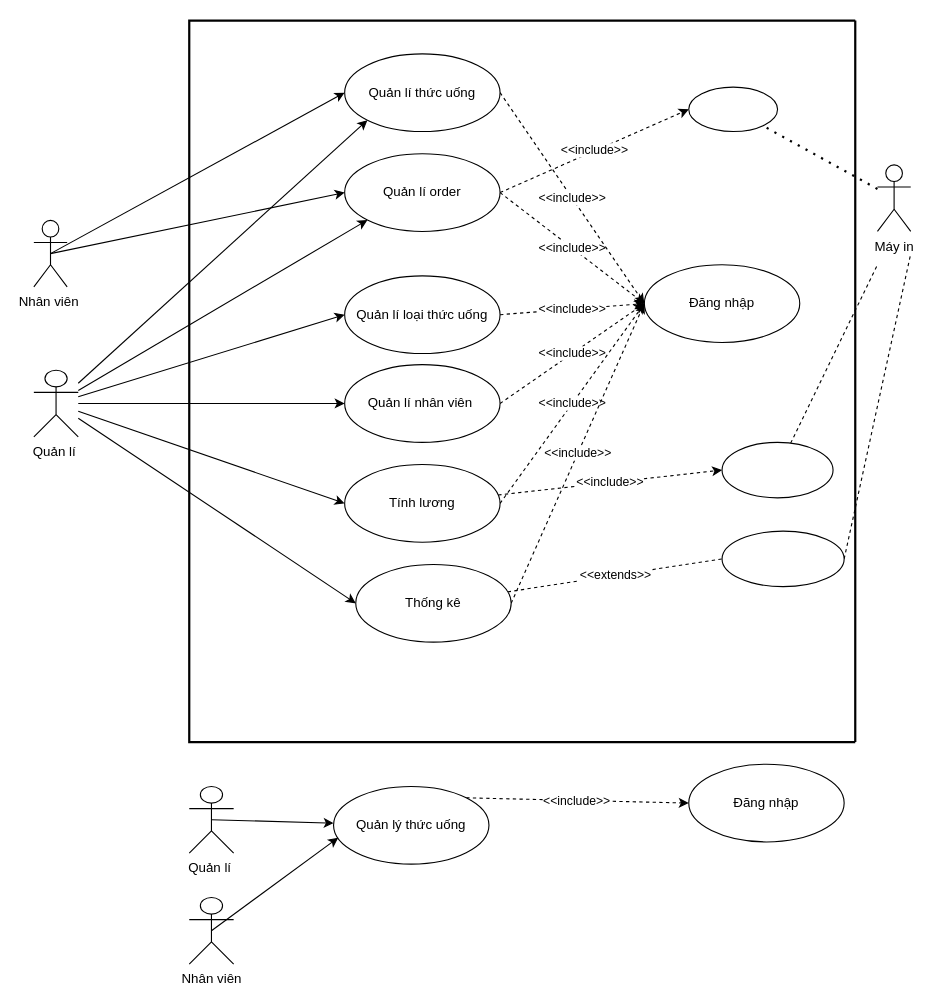
This 932x1006 diagram has some shape labels left out. The shapes that lost their labels are listed below. From the top down, each one's centre as x and y in pixels, then its label:
pixel 733 109: Xuất hóa đơn
pixel 777 469: In bản lương
pixel 782 558: In thống kê
